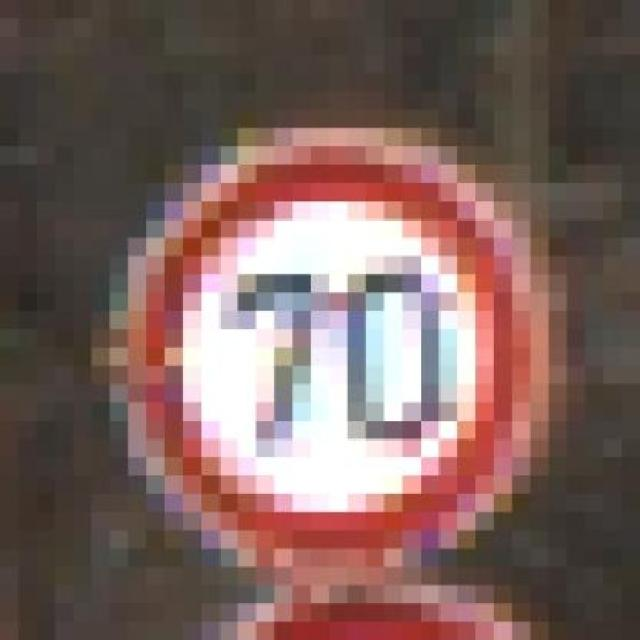forb_speed_over_70: (148, 146, 522, 555)
